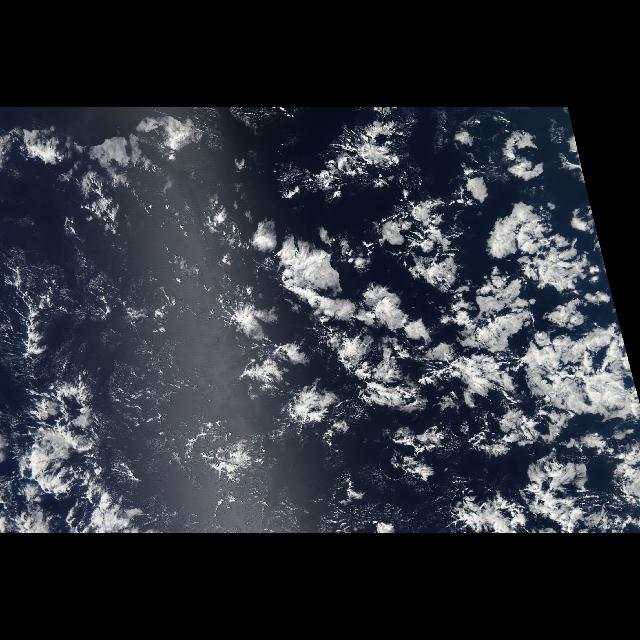Fish: (16, 214, 112, 376)
Flower: (224, 165, 632, 527)
